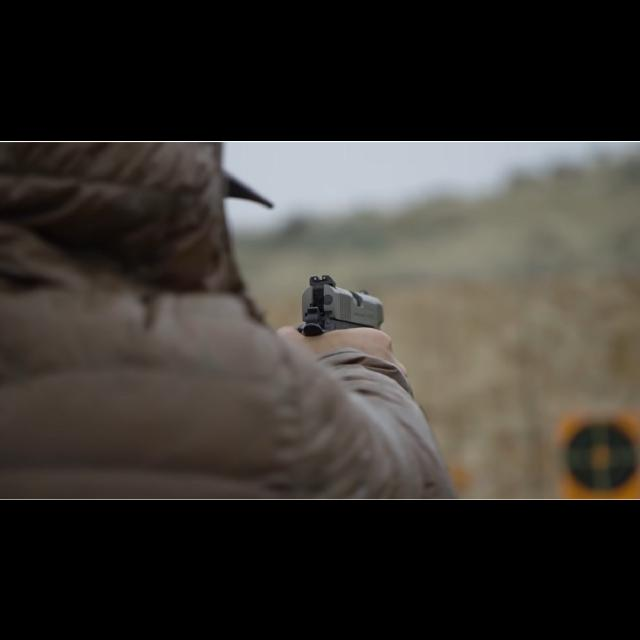handgun: (294, 270, 388, 338)
